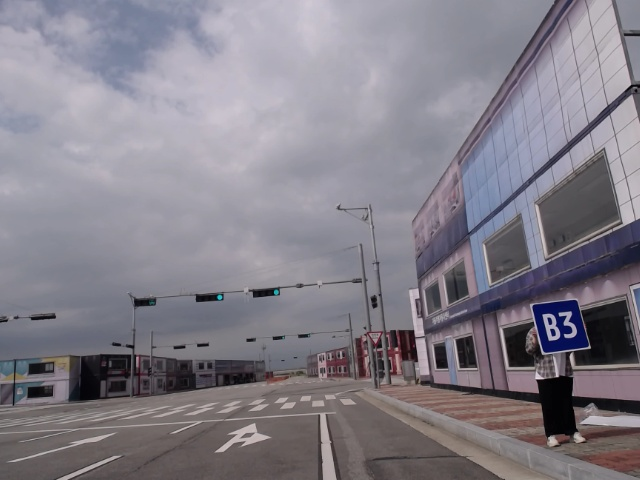delivery_b3: (530, 299, 591, 353)
straight_green_4: (250, 287, 281, 300), (194, 292, 228, 302), (271, 334, 288, 342), (295, 332, 312, 340)
